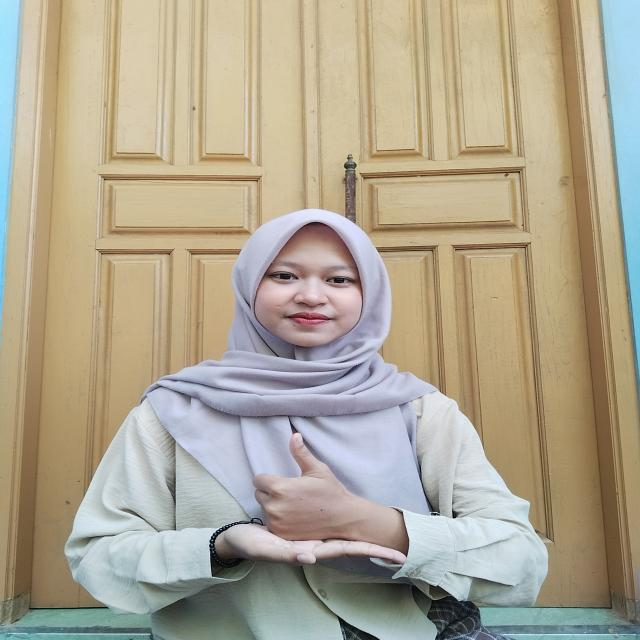cantik: (216, 418, 413, 594)
